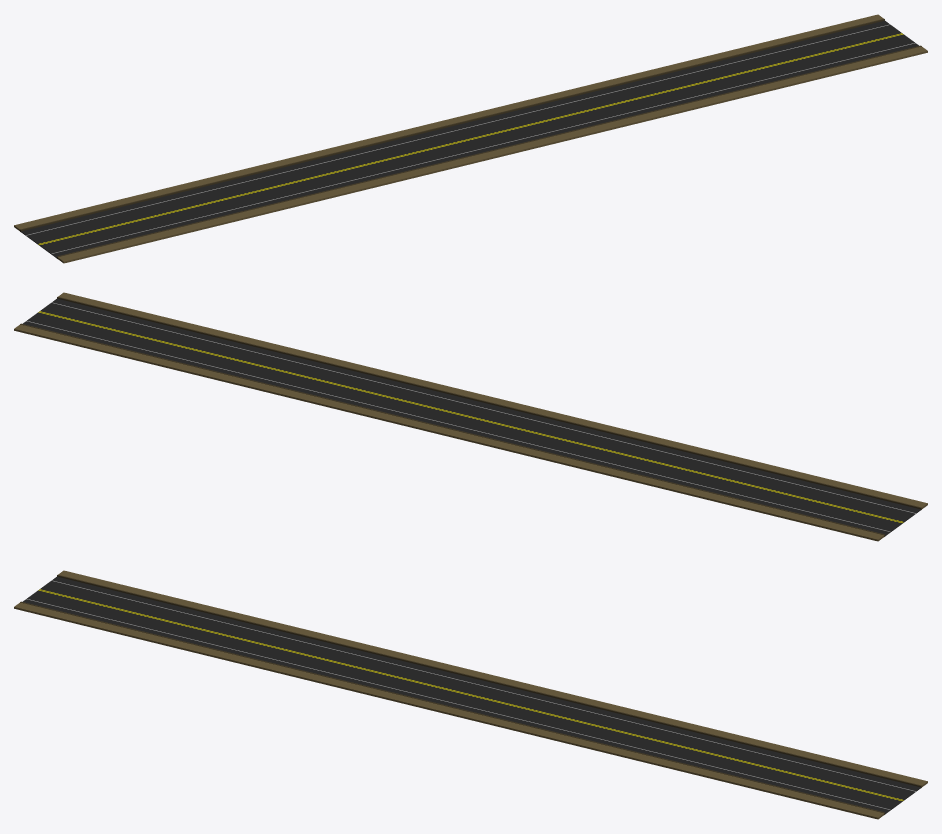
Rendered from clay_ave_rd.gltf.
3 renders of one model, top to bottom at view 1: azimuth 30°, elevation 25°; view 2: azimuth 150°, elevation 25°; view 3: azimuth 330°, elevation 25°, orthographic.
Parts seen in each view (by area): view 1: RoadBase1, RoadBase, Sidewalk1, RoadBase2, RoadBase3, Sidewalk2, Curb2, Curb1, roaddivider1, roaddivider4, roaddivider3, roaddivider2; view 2: RoadBase, RoadBase1, Sidewalk2, RoadBase3, RoadBase2, Sidewalk1, Curb1, Curb2, roaddivider3, roaddivider2, roaddivider4, roaddivider1; view 3: RoadBase1, RoadBase, Sidewalk1, RoadBase2, RoadBase3, Sidewalk2, Curb2, Curb1, roaddivider4, roaddivider3, roaddivider1, roaddivider2.
Part boxes in pixels (left/top/right/bottom): RoadBase1: left=28, top=26, right=902, bottom=244; RoadBase: left=39, top=34, right=913, bottom=252; Sidewalk1: left=57, top=46, right=927, bottom=263; RoadBase2: left=21, top=20, right=891, bottom=236; RoadBase3: left=49, top=41, right=919, bottom=258; Sidewalk2: left=14, top=14, right=883, bottom=230; Curb2: left=20, top=19, right=884, bottom=231; Curb1: left=57, top=45, right=921, bottom=258; roaddivider1: left=39, top=34, right=903, bottom=245; roaddivider4: left=51, top=43, right=915, bottom=254; roaddivider3: left=26, top=24, right=890, bottom=235; roaddivider2: left=38, top=33, right=902, bottom=244; RoadBase: left=39, top=304, right=913, bottom=522; RoadBase1: left=28, top=312, right=902, bottom=530; Sidewalk2: left=14, top=324, right=884, bottom=541; RoadBase3: left=49, top=298, right=920, bottom=515; RoadBase2: left=22, top=319, right=892, bottom=536; Sidewalk1: left=58, top=292, right=927, bottom=509; Curb1: left=57, top=297, right=921, bottom=509; Curb2: left=20, top=323, right=884, bottom=536; roaddivider3: left=26, top=321, right=890, bottom=532; roaddivider2: left=38, top=312, right=902, bottom=522; roaddivider4: left=51, top=302, right=915, bottom=513; roaddivider1: left=39, top=311, right=903, bottom=522; RoadBase1: left=39, top=582, right=913, bottom=800; RoadBase: left=28, top=590, right=902, bottom=808; Sidewalk1: left=14, top=602, right=884, bottom=819; RoadBase2: left=49, top=576, right=920, bottom=793; RoadBase3: left=22, top=597, right=892, bottom=814; Sidewalk2: left=58, top=570, right=927, bottom=787; Curb2: left=57, top=575, right=921, bottom=787; Curb1: left=20, top=601, right=884, bottom=814; roaddivider4: left=26, top=599, right=890, bottom=810; roaddivider3: left=51, top=580, right=915, bottom=791; roaddivider1: left=38, top=590, right=902, bottom=800; roaddivider2: left=39, top=589, right=903, bottom=800.
Size of the model in its own units: 154 by 0.384 by 15.34.
